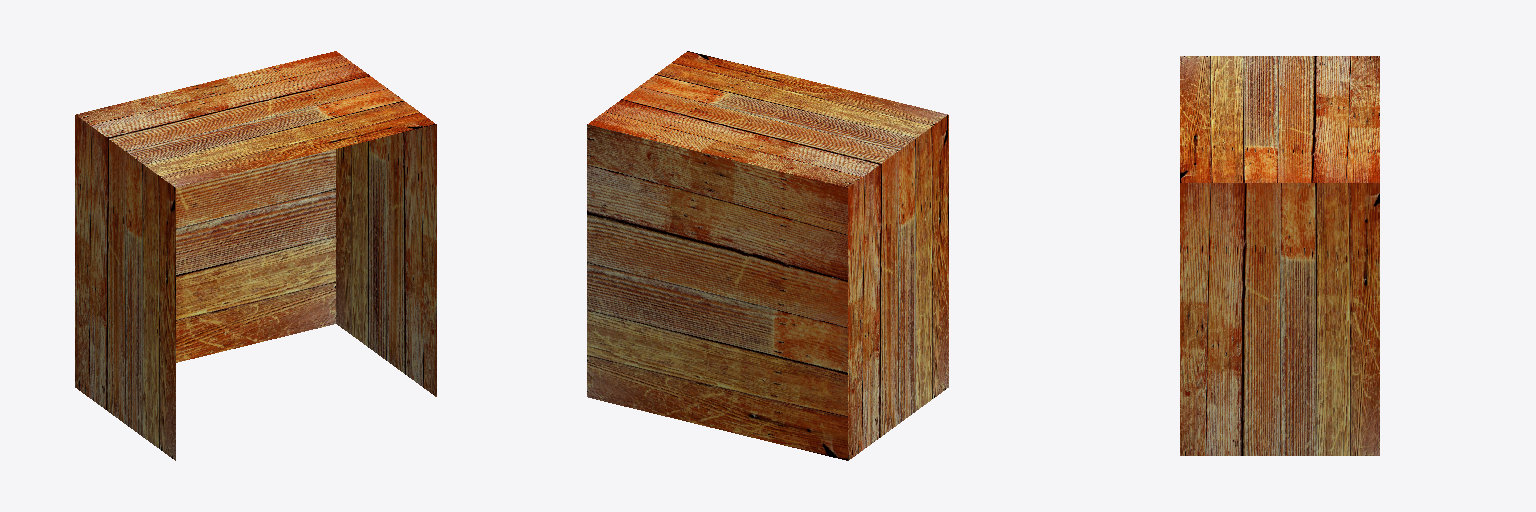
3 renders of one model, left to right at view 1: azimuth 30°, elevation 25°; view 2: azimuth 150°, elevation 25°; view 3: azimuth 270°, elevation 25°, orthographic.
Parts seen in each view (by area): view 1: Base; view 2: Base; view 3: Base.
Boxes of the visible parts, box(x1,y1,x2,y2) form: Base: box(75, 51, 436, 460); Base: box(587, 51, 948, 460); Base: box(1180, 56, 1379, 455).
Bounding box in the file's own units: 15 × 15 × 10.
Materials: 1 (1 with a texture image).